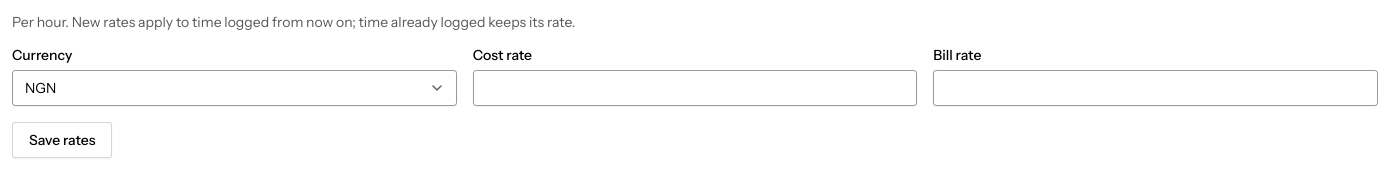
it: RatesForm › saves rates in minor units and explains bad amounts
In the field labelled "Cost rate": (695, 88) [473,70,917,106], type "15,000.50"
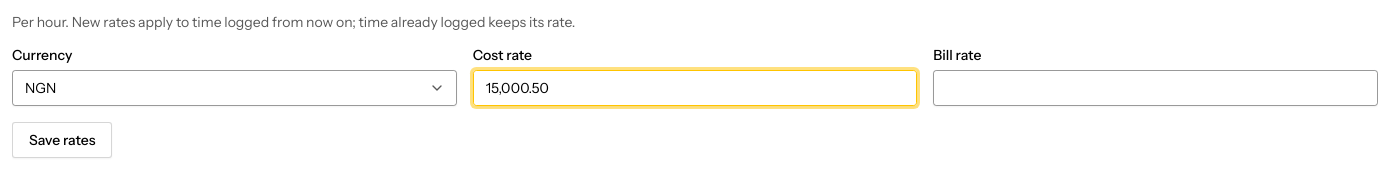
In the field labelled "Bill rate": (1156, 88) [933,70,1378,106], type "30000"
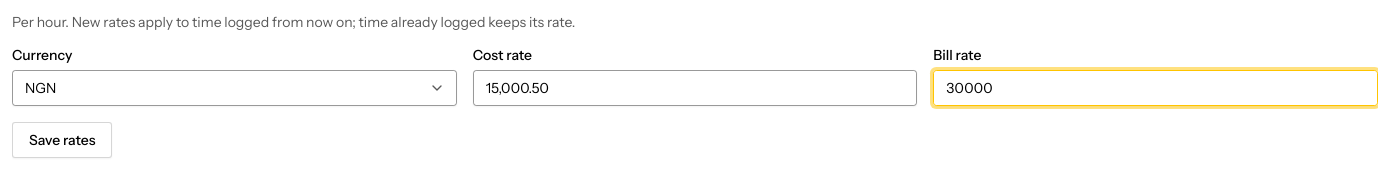
Click the button "Save rates": (62, 140) [12,122,112,158]
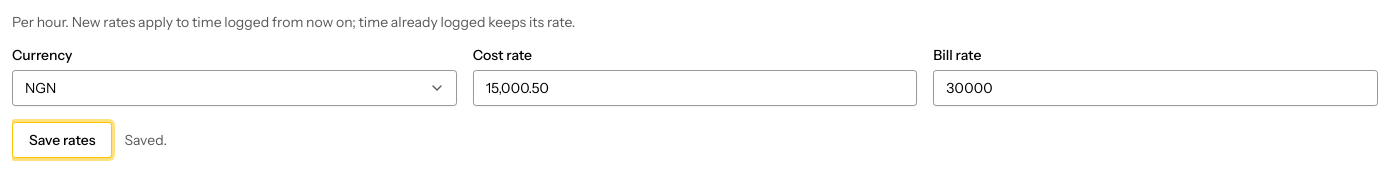
Replace the text in the field labelled "Bill rate" with "lots": (1156, 88) [933,70,1378,106]
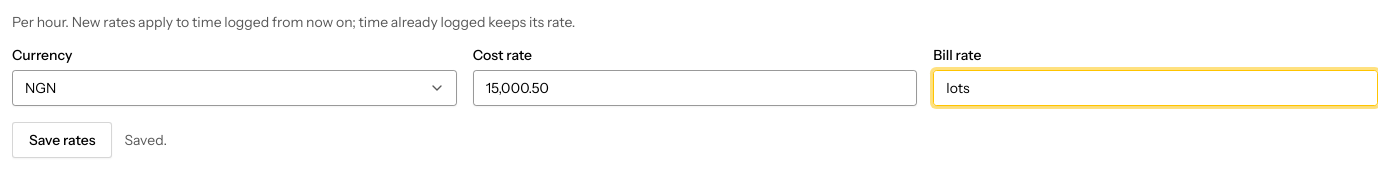
Click the button "Save rates": (62, 140) [12,122,112,158]
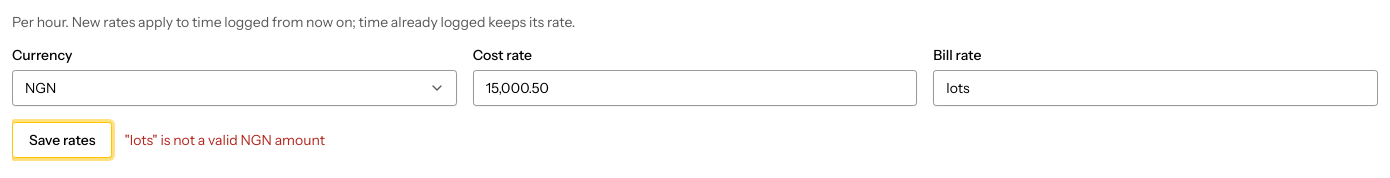
Now the message shows "not a valid NGN amount", box [124,131,325,149]
